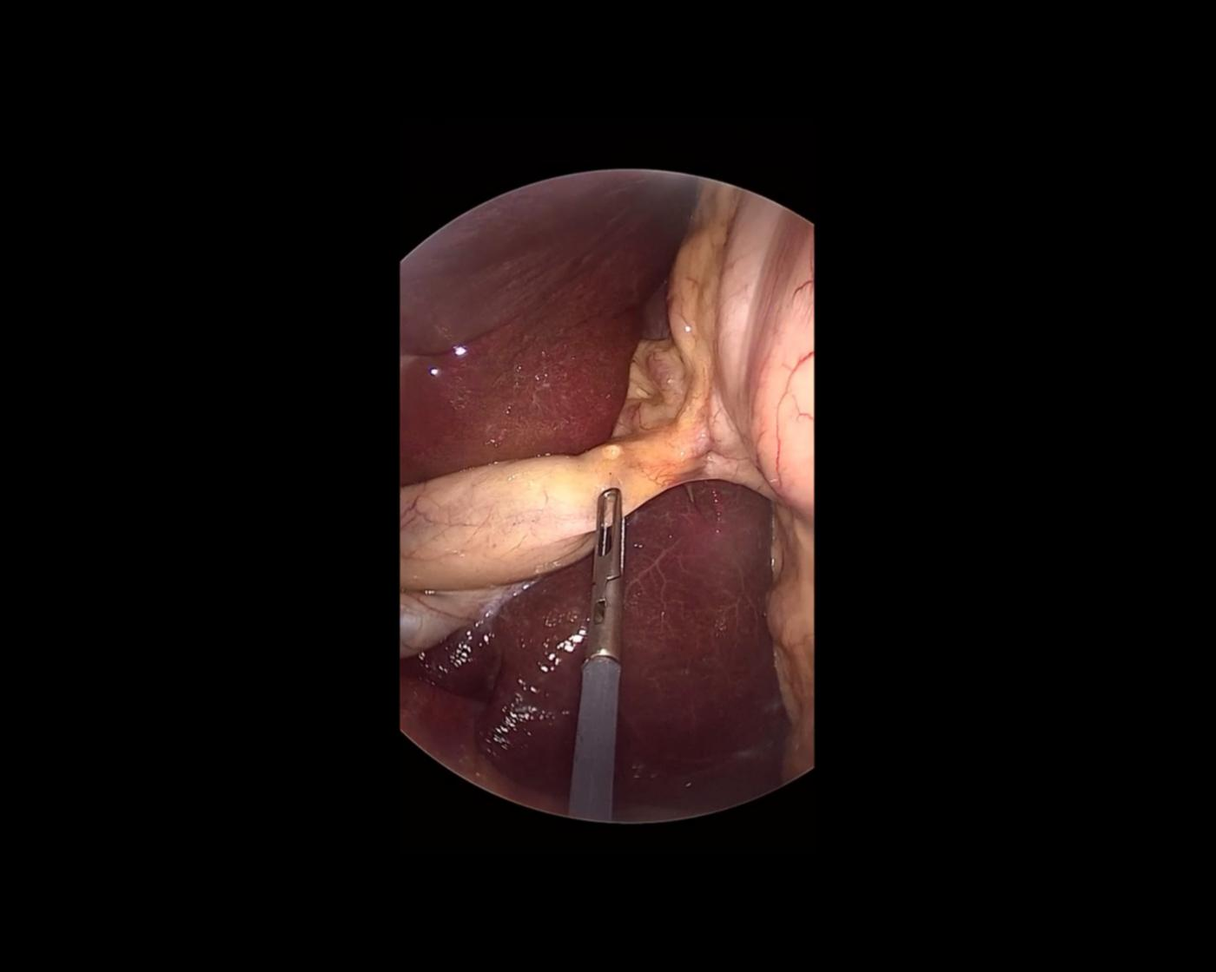Forceps: (569, 481, 638, 816)
Gallbladder: (329, 367, 687, 660)
Liver: (403, 471, 796, 832), (400, 173, 696, 484)
